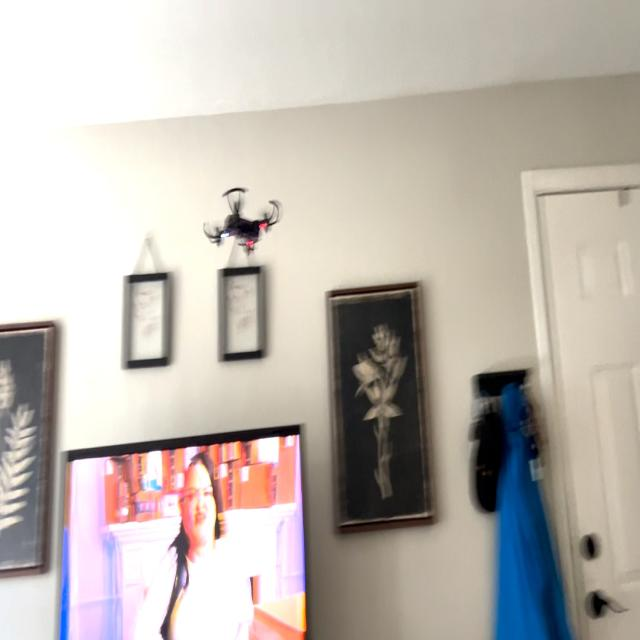drone: (198, 176, 286, 263)
